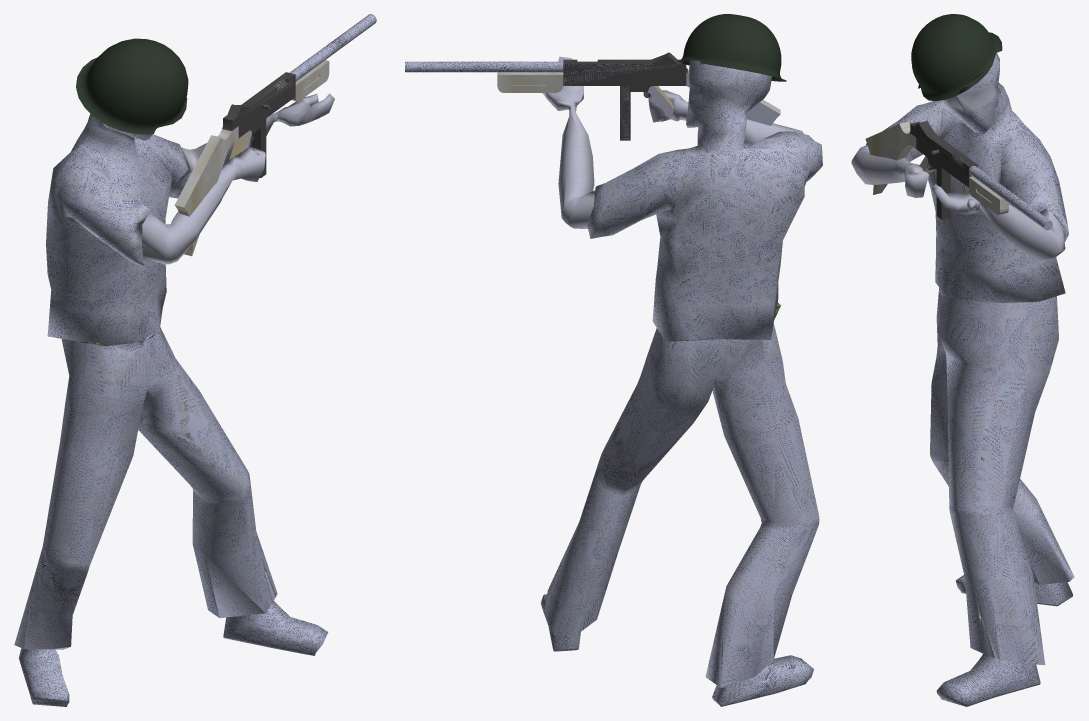
The model's file is soldier.fbx.
The picture shows the model from 3 angles, left to right: view 1: azimuth 30°, elevation 25°; view 2: azimuth 150°, elevation 25°; view 3: azimuth 270°, elevation 25°; orthographic projection. The views are drawn at different scales.
Visible parts, largest first — view 1: Model; view 2: Model; view 3: Model.
Boxes of the visible parts, x1,y1,x2,y2 form: Model: [14, 14, 376, 706]; Model: [405, 14, 822, 706]; Model: [851, 14, 1074, 706].
Bounding box in the file's own units: 1.08 × 1.77 × 0.5926.
